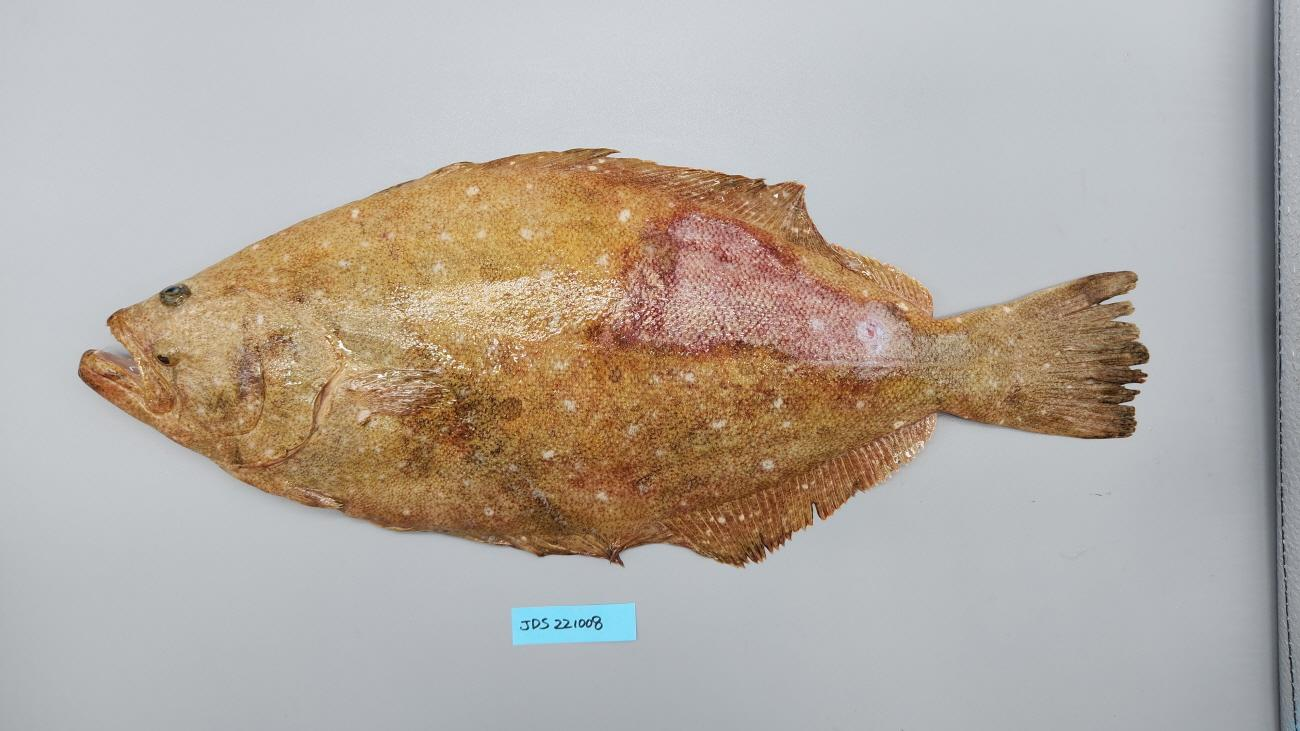VIDYU: (580, 205, 904, 376)
VIOUY: (76, 143, 1152, 567)
